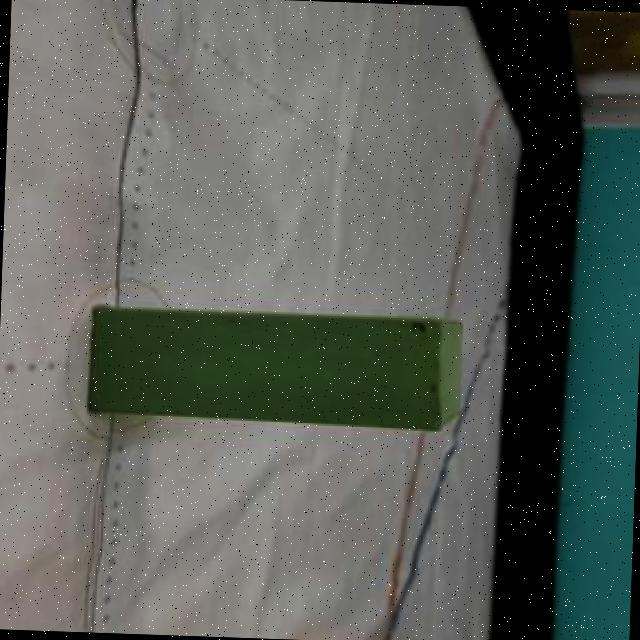greenbox: (89, 305, 460, 430)
